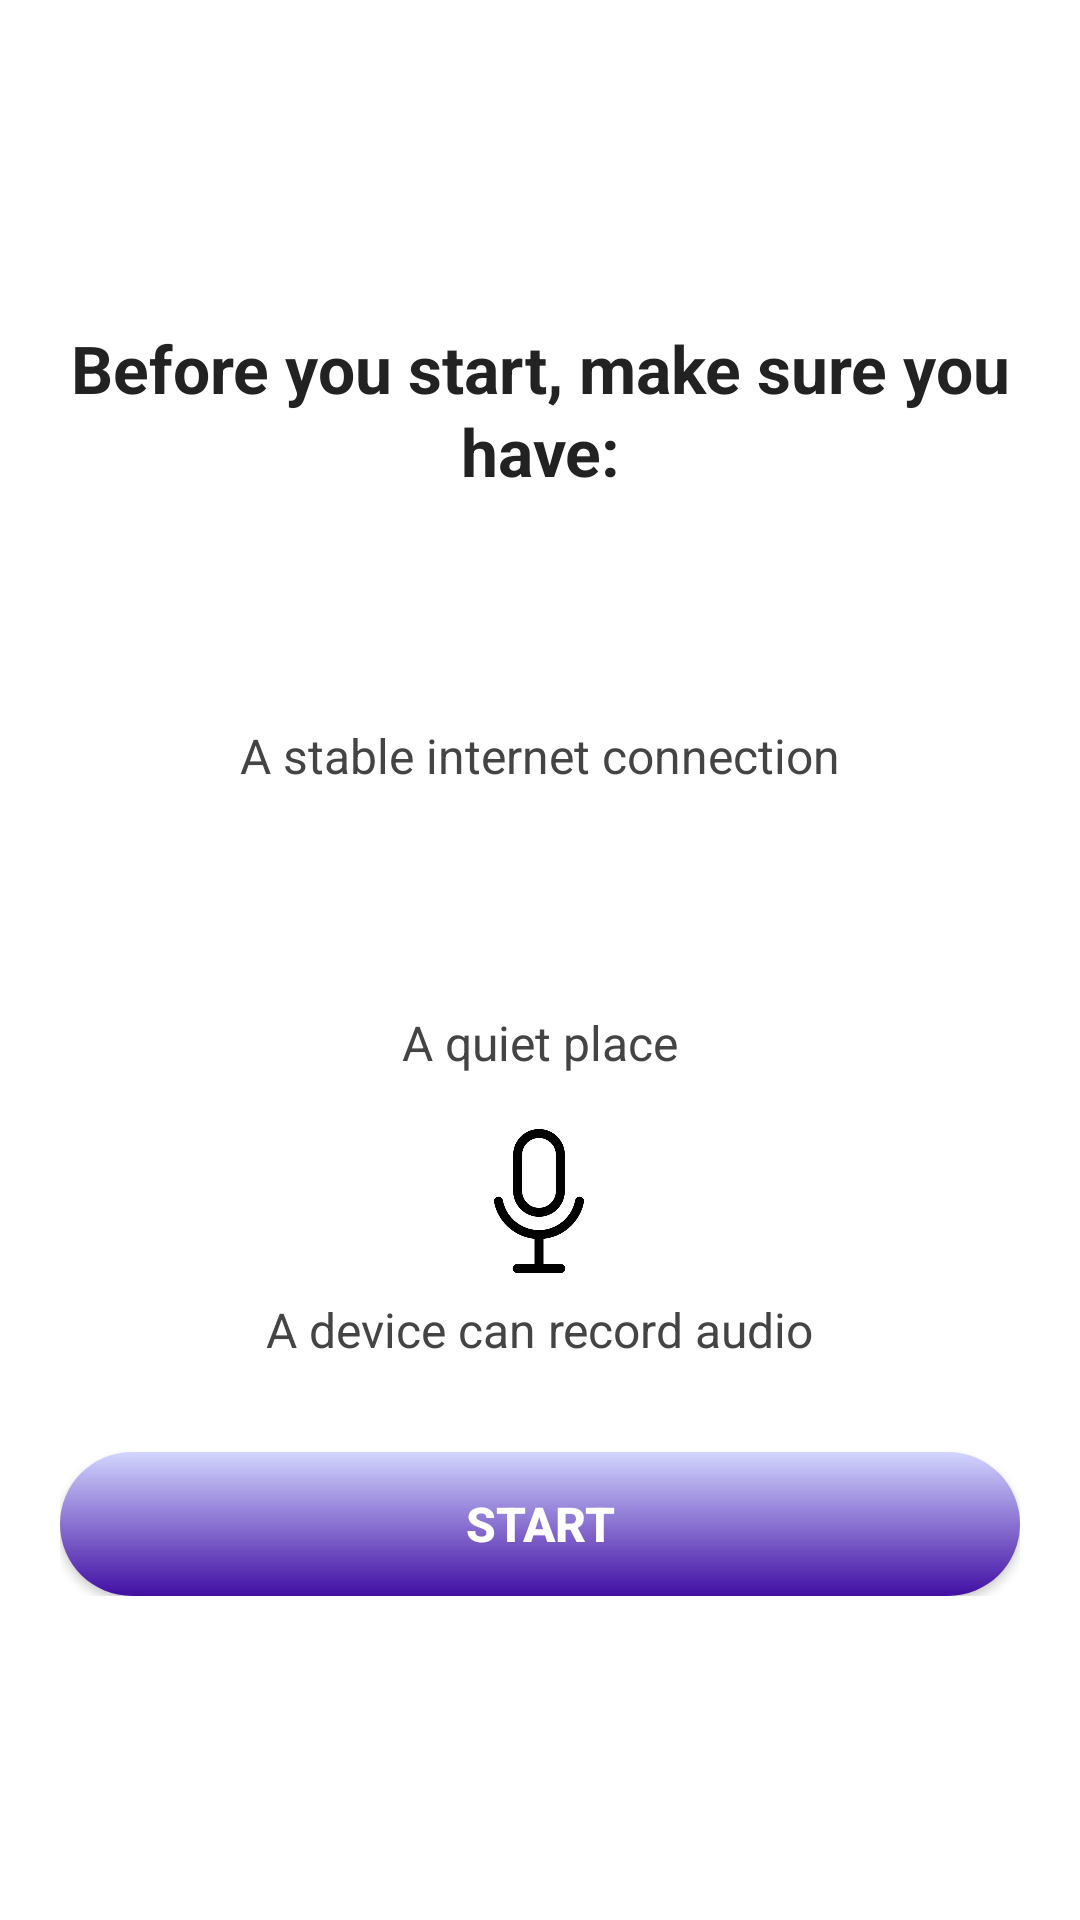

Screen size 1080 × 1920. Icon name, then its box in pixels as box(x1, y1, x2, y2):
Microphone icon: box(494, 1129, 584, 1273)
